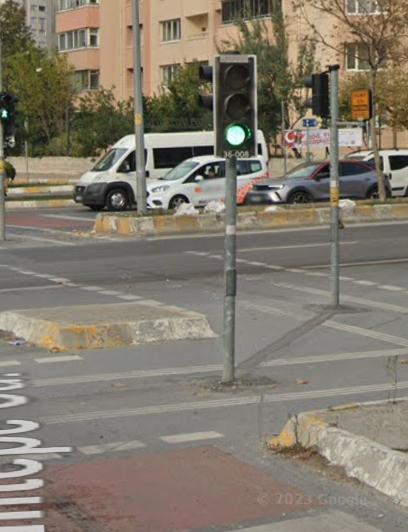greenlight: (215, 53, 258, 154)
